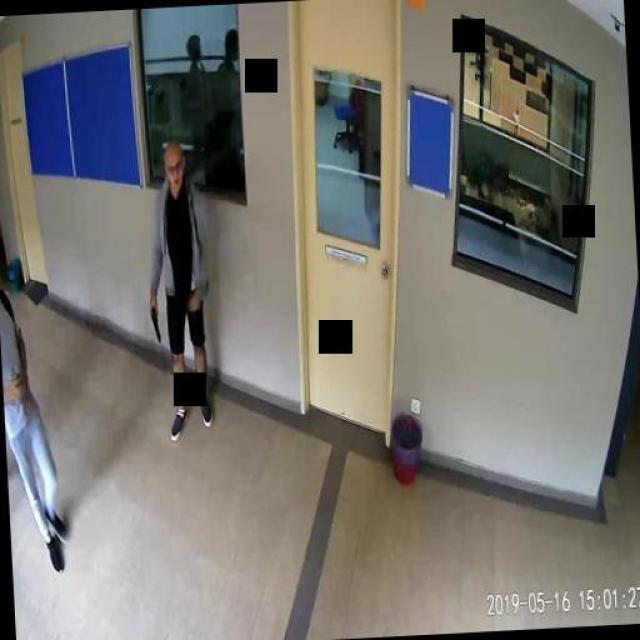gun: (148, 298, 160, 342)
